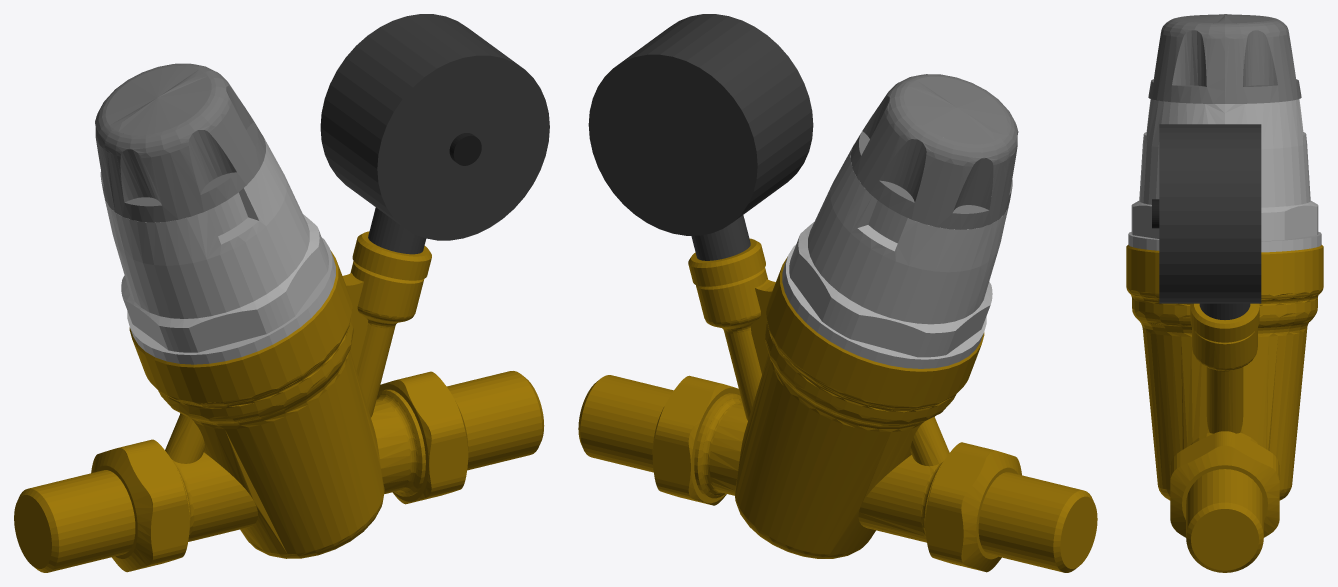
3 renders of one model, left to right at view 1: azimuth 30°, elevation 25°; view 2: azimuth 150°, elevation 25°; view 3: azimuth 270°, elevation 25°, orthographic. The views are drawn at different scales.
Visible parts, largest first — view 1: Group_1 (×2), Group_8, Group_2 (×5), Group_5 (×2), Group_3, Group_4, Group_6, Group_7, Group_9; view 2: Group_1 (×2), Group_8, Group_2 (×5), Group_5 (×2), Group_3, Group_4, Group_6, Group_7; view 3: Group_1, Group_8, Group_2 (×3), Group_3, Group_5 (×2), Group_4, Group_6, Group_7.
Part boxes in pixels (left/top/right/bottom): Group_1 (×2): left=129, top=250, right=425, bottom=558; Group_8: left=320, top=14, right=549, bottom=240; Group_2 (×5): left=14, top=261, right=544, bottom=572; Group_5 (×2): left=115, top=175, right=335, bottom=364; Group_3: left=95, top=63, right=265, bottom=222; Group_4: left=104, top=135, right=286, bottom=265; Group_6: left=352, top=231, right=431, bottom=280; Group_7: left=368, top=207, right=426, bottom=254; Group_9: left=449, top=133, right=481, bottom=165; Group_1 (×2): left=694, top=257, right=984, bottom=558; Group_8: left=588, top=14, right=813, bottom=235; Group_2 (×5): left=578, top=267, right=1097, bottom=572; Group_5 (×2): left=782, top=184, right=998, bottom=368; Group_3: left=851, top=74, right=1018, bottom=229; Group_4: left=830, top=147, right=1009, bottom=272; Group_6: left=688, top=238, right=765, bottom=286; Group_7: left=691, top=215, right=750, bottom=260; Group_1: left=1126, top=245, right=1323, bottom=500; Group_8: left=1159, top=124, right=1261, bottom=303; Group_2 (×3): left=1170, top=327, right=1279, bottom=572; Group_3: left=1148, top=14, right=1301, bottom=103; Group_5 (×2): left=1128, top=143, right=1321, bottom=252; Group_4: left=1143, top=99, right=1306, bottom=149; Group_6: left=1190, top=303, right=1259, bottom=342; Group_7: left=1199, top=303, right=1250, bottom=319.
Bounding box in the file's own units: 5.51 × 2.13 × 5.29.
